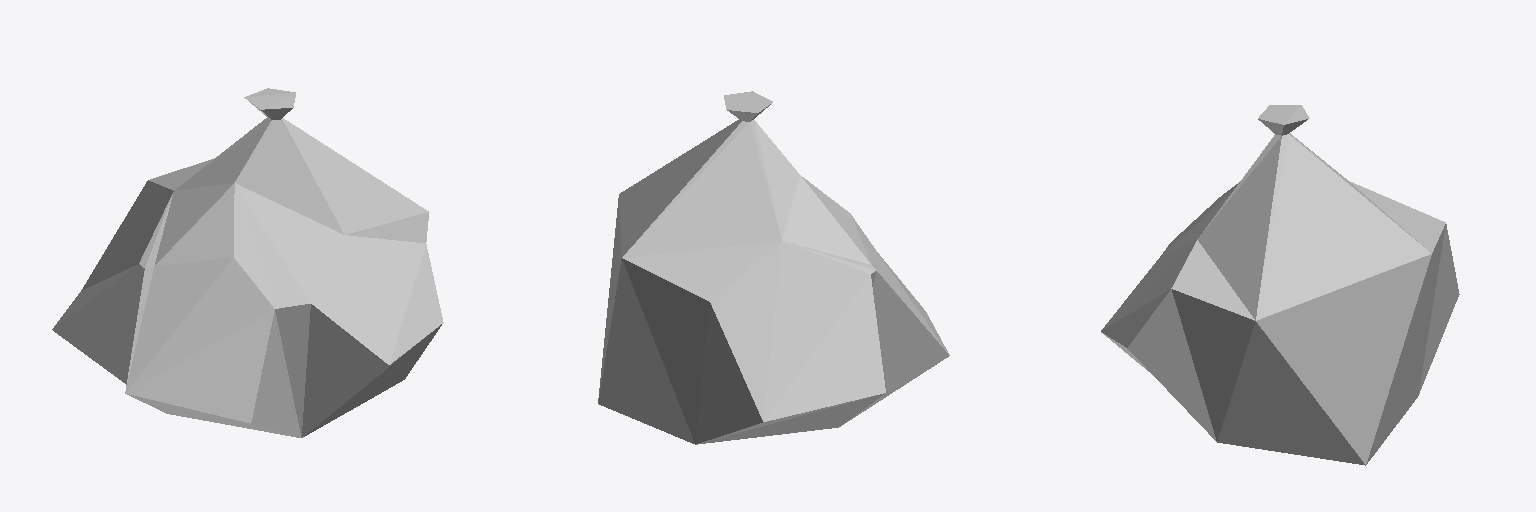
File: trash_bag3.obj
3 renders of one model, left to right at view 1: azimuth 30°, elevation 25°; view 2: azimuth 150°, elevation 25°; view 3: azimuth 270°, elevation 25°, orthographic.
Visible parts, largest first — view 1: Icosphere.007; view 2: Icosphere.007; view 3: Icosphere.007.
Part boxes in pixels (x1,y1,x2,y2): Icosphere.007: (52,88,443,437); Icosphere.007: (598,91,949,444); Icosphere.007: (1101,105,1459,465).
Size of the model in its own units: 0.7193 by 0.6467 by 0.6939.